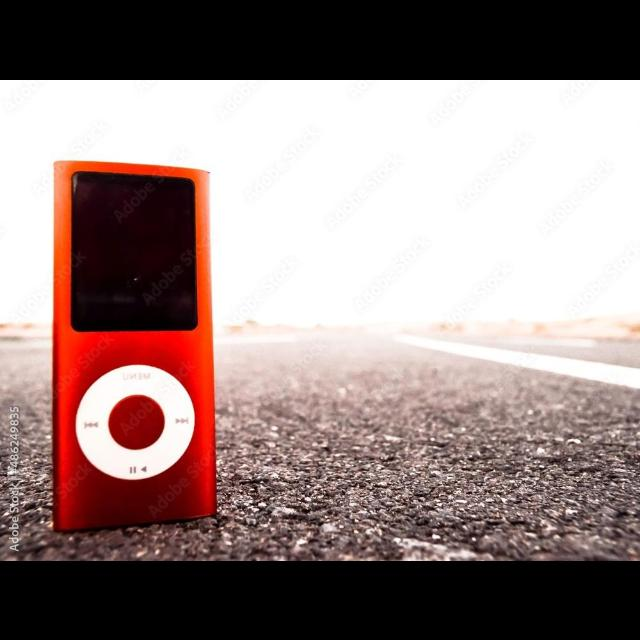Music-Player: (44, 155, 228, 545)
